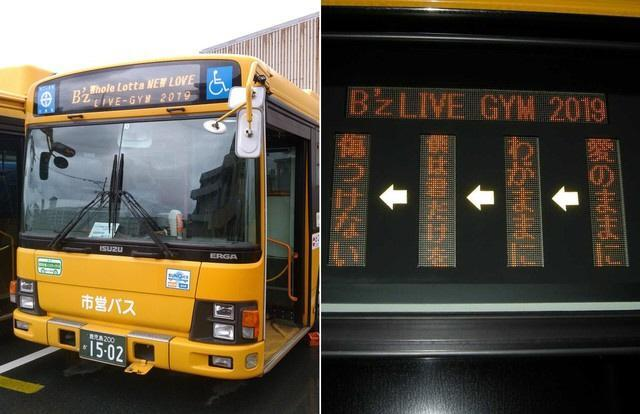destination: (58, 63, 200, 112)
